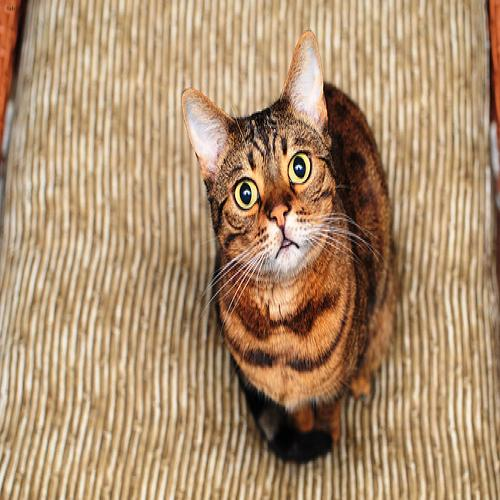bengal: (177, 24, 356, 294)
